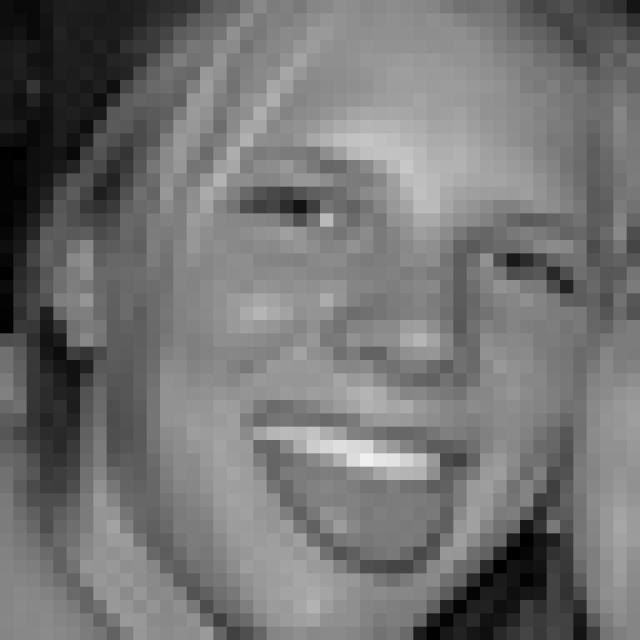happy: (225, 134, 606, 575)
